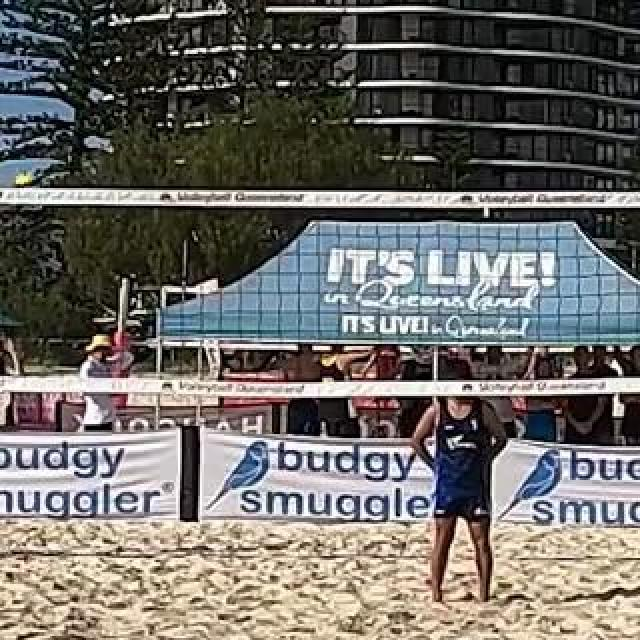volleyball: (10, 173, 42, 203)
